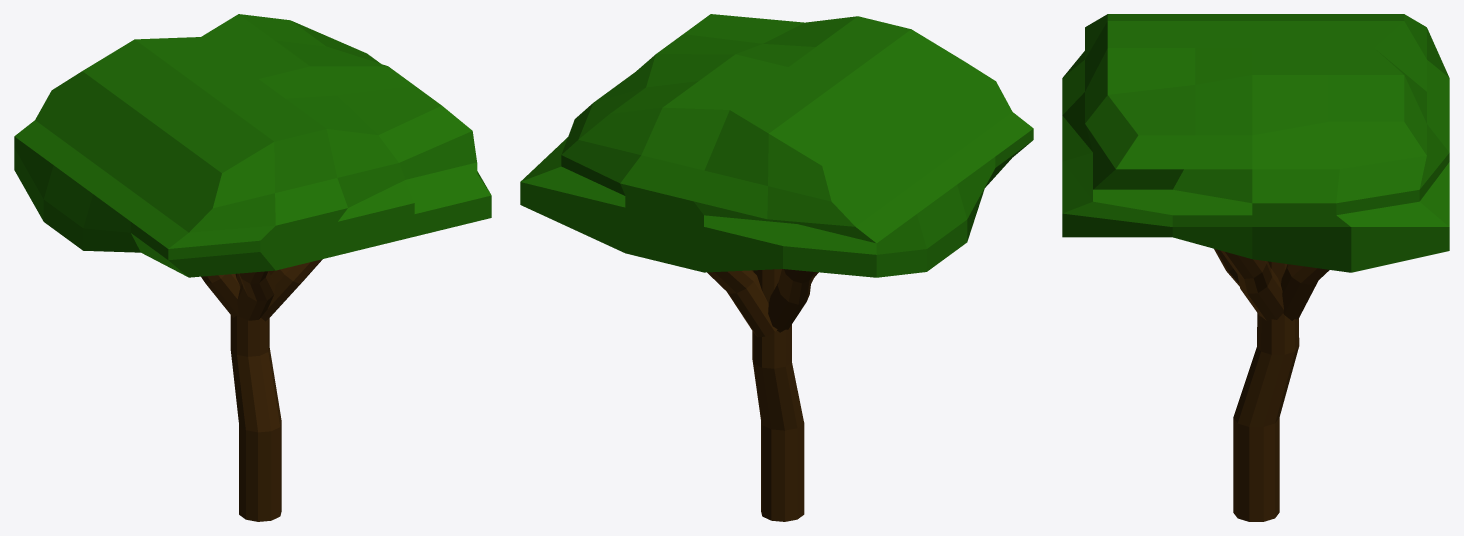
The model's file is oak tree.fbx.
3 views of the same model, side by side, from view 1: azimuth 30°, elevation 25°; view 2: azimuth 150°, elevation 25°; view 3: azimuth 270°, elevation 25° (orthographic). The views are drawn at different scales.
Parts seen in each view (by area): view 1: Cylinder; view 2: Cylinder; view 3: Cylinder.
Boxes of the visible parts, x1,y1,x2,y2 form: Cylinder: (14,14,491,521); Cylinder: (520,14,1033,521); Cylinder: (1062,14,1449,521).
Size of the model in its own units: 1830 by 2210 by 1676.
